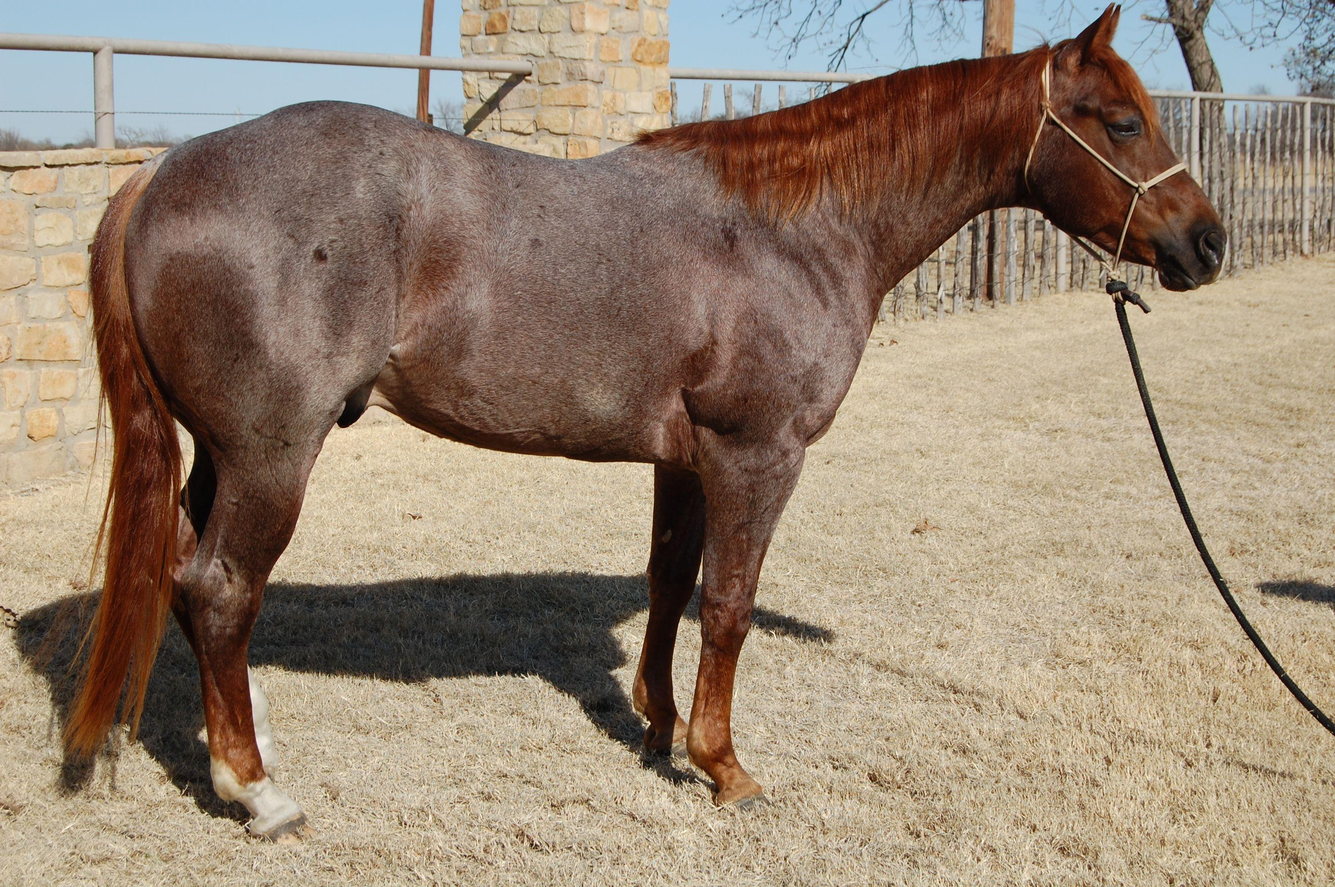horse: (56, 3, 1228, 843)
